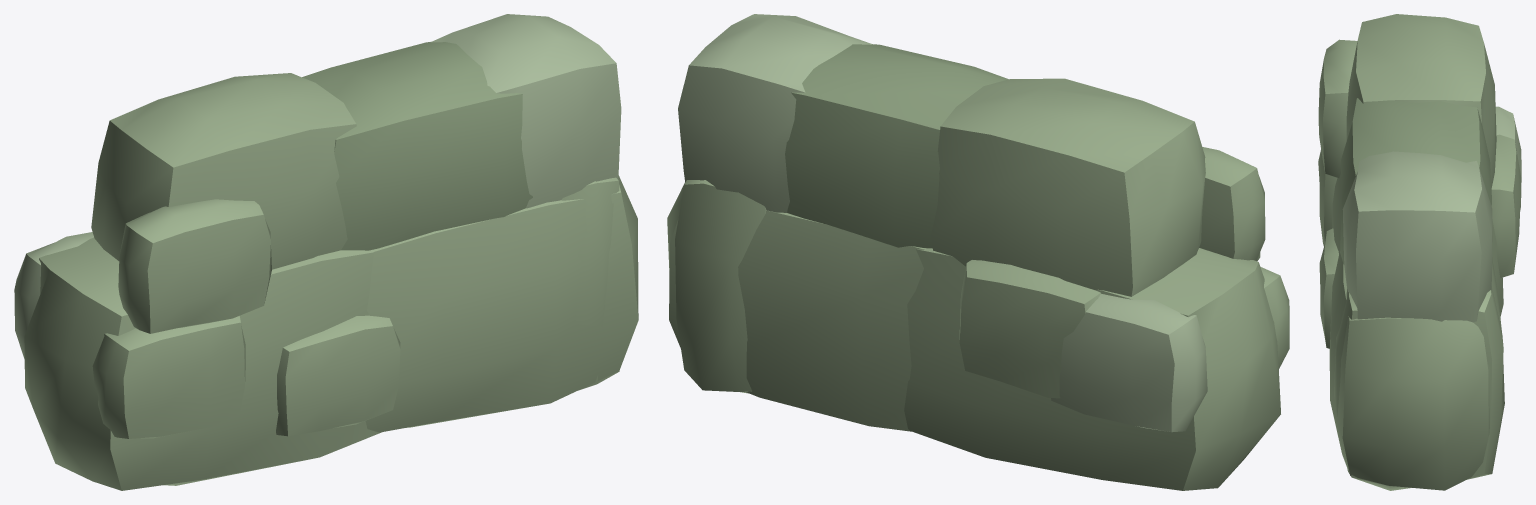
File: fagyal-soveny2-3m.glb
3 renders of one model, left to right at view 1: azimuth 30°, elevation 25°; view 2: azimuth 150°, elevation 25°; view 3: azimuth 270°, elevation 25°, orthographic. The views are drawn at different scales.
Visible parts, largest first — view 1: blokk-also-2, blokk-also-1, blokk-felso-1, blokk-felso-2, blokk-felso-3, dudor-5, dudor-4, dudor-2, blokk-also-3, dudor-3; view 2: blokk-felso-1, blokk-also-1, blokk-also-2, blokk-felso-2, blokk-felso-3, dudor-3, blokk-also-3, dudor-1, dudor-5, dudor-4; view 3: blokk-also-2, blokk-felso-3, blokk-felso-1, blokk-felso-2, blokk-also-3, dudor-5, dudor-1, dudor-2, blokk-also-1, dudor-4, dudor-3.
Boxes of the visible parts, <box> form: blokk-also-2: <box>365,175,638,432</box>; blokk-also-1: <box>24,237,382,490</box>; blokk-felso-1: <box>91,73,356,269</box>; blokk-felso-2: <box>302,42,532,250</box>; blokk-felso-3: <box>431,14,621,208</box>; dudor-5: <box>118,199,271,333</box>; dudor-4: <box>92,316,245,438</box>; dudor-2: <box>276,315,400,436</box>; blokk-also-3: <box>561,177,619,390</box>; dudor-3: <box>14,232,93,358</box>; blokk-felso-1: <box>930,78,1205,296</box>; blokk-also-1: <box>904,248,1280,490</box>; blokk-also-2: <box>667,182,925,431</box>; blokk-felso-2: <box>785,44,1008,248</box>; blokk-felso-3: <box>678,14,873,212</box>; dudor-3: <box>1051,293,1207,432</box>; blokk-also-3: <box>675,180,766,393</box>; dudor-1: <box>959,260,1100,398</box>; dudor-5: <box>1199,147,1265,261</box>; dudor-4: <box>1260,267,1289,369</box>; blokk-also-2: <box>1329,250,1501,490</box>; blokk-felso-3: <box>1342,151,1492,322</box>; blokk-felso-1: <box>1346,14,1496,187</box>; blokk-felso-2: <box>1340,98,1491,264</box>; blokk-also-3: <box>1334,286,1504,490</box>; dudor-5: <box>1318,39,1357,177</box>; dudor-1: <box>1491,134,1521,277</box>; dudor-2: <box>1319,228,1338,348</box>; blokk-also-1: <box>1332,173,1503,317</box>; dudor-4: <box>1318,149,1337,245</box>; dudor-3: <box>1495,106,1521,211</box>.
Bounding box in the file's own units: 3.49 × 2.04 × 1.22.
